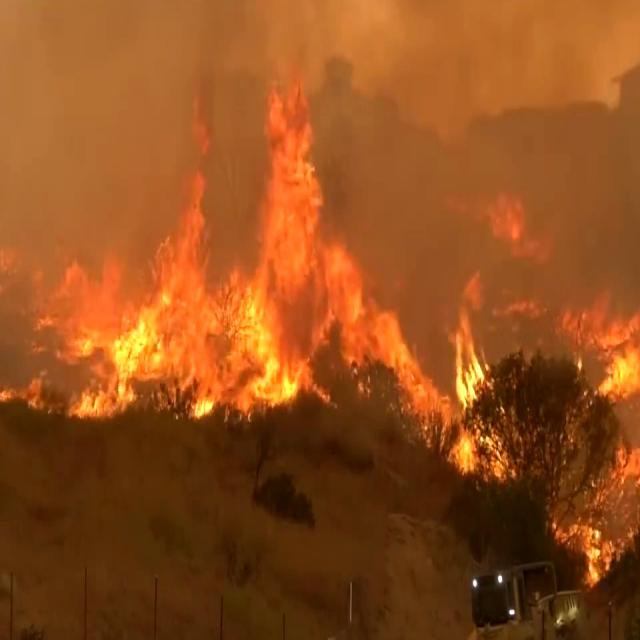fire: (18, 94, 392, 413), (434, 302, 528, 474), (575, 288, 640, 514)
smoke: (202, 0, 321, 109)
